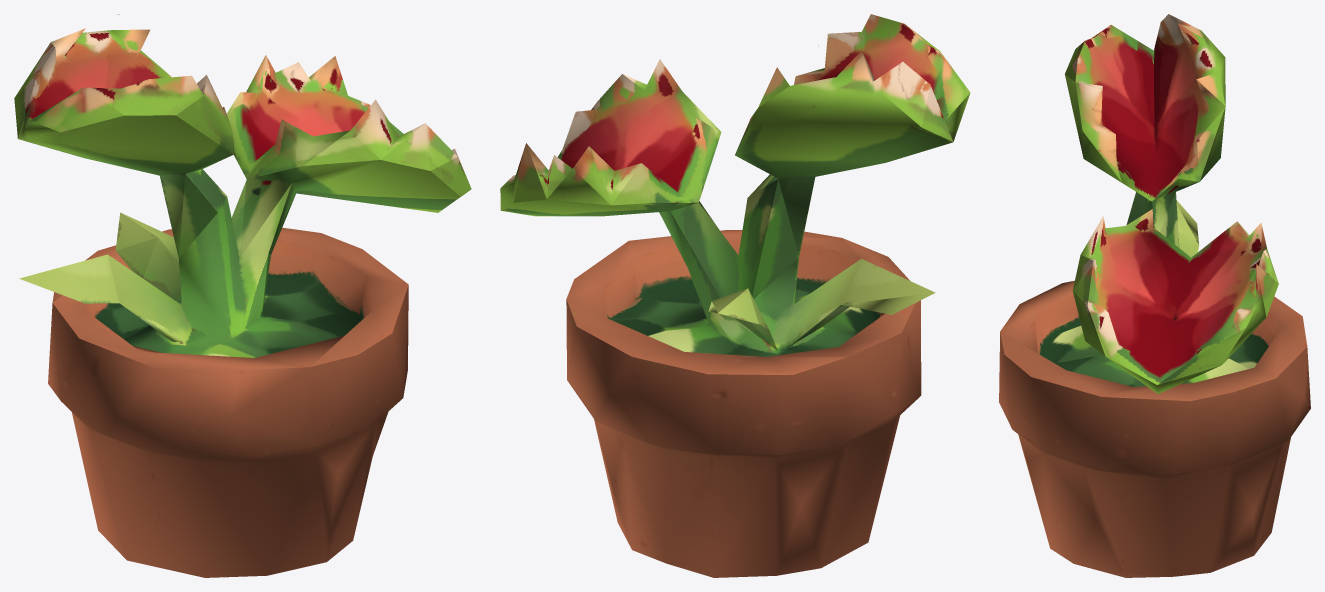
File: venus-flytrap-pot.glb
3 views of the same model, side by side, from view 1: azimuth 30°, elevation 25°; view 2: azimuth 150°, elevation 25°; view 3: azimuth 270°, elevation 25° (orthographic). The views are drawn at different scales.
Visible parts, largest first — view 1: geometry_0.001; view 2: geometry_0.001; view 3: geometry_0.001.
Part boxes in pixels (x1,y1,x2,y2): geometry_0.001: [14, 14, 471, 577]; geometry_0.001: [500, 14, 970, 577]; geometry_0.001: [999, 14, 1310, 577].
Size of the model in its own units: 0.8547 by 0.998 by 0.62.
1 material, 1 textured.
